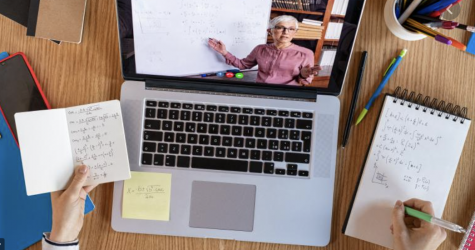Note: (123, 171, 171, 221)
